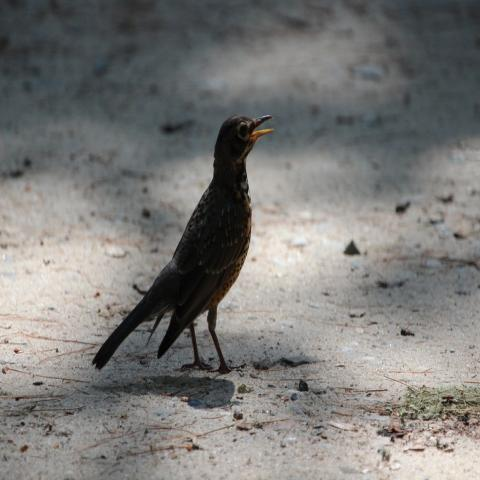bird: (90, 110, 276, 377)
